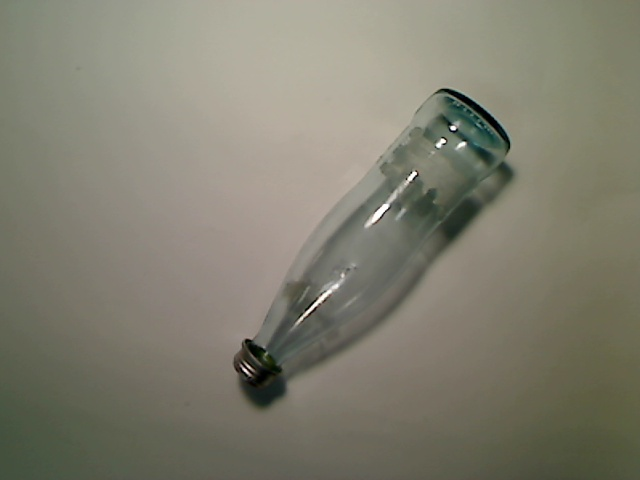bottle: (232, 88, 512, 391)
